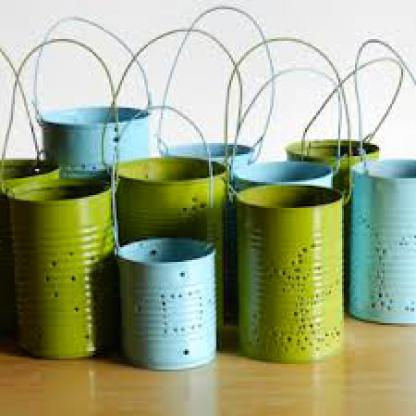Compsot: (231, 182, 346, 360), (5, 180, 111, 360), (113, 158, 222, 330), (289, 139, 377, 310), (113, 238, 216, 368), (348, 156, 414, 325), (0, 159, 56, 331), (35, 106, 146, 182), (229, 162, 335, 208), (165, 141, 253, 188)
